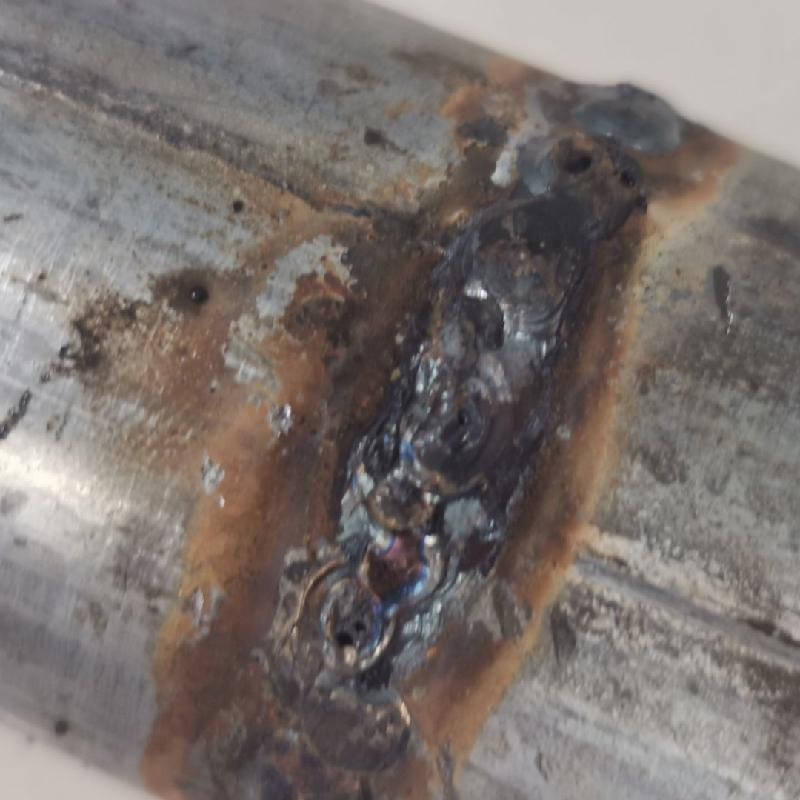Surface_pores: (548, 125, 648, 202), (328, 605, 382, 659)
crater: (302, 352, 506, 681)
wrong_size: (437, 55, 682, 364)
